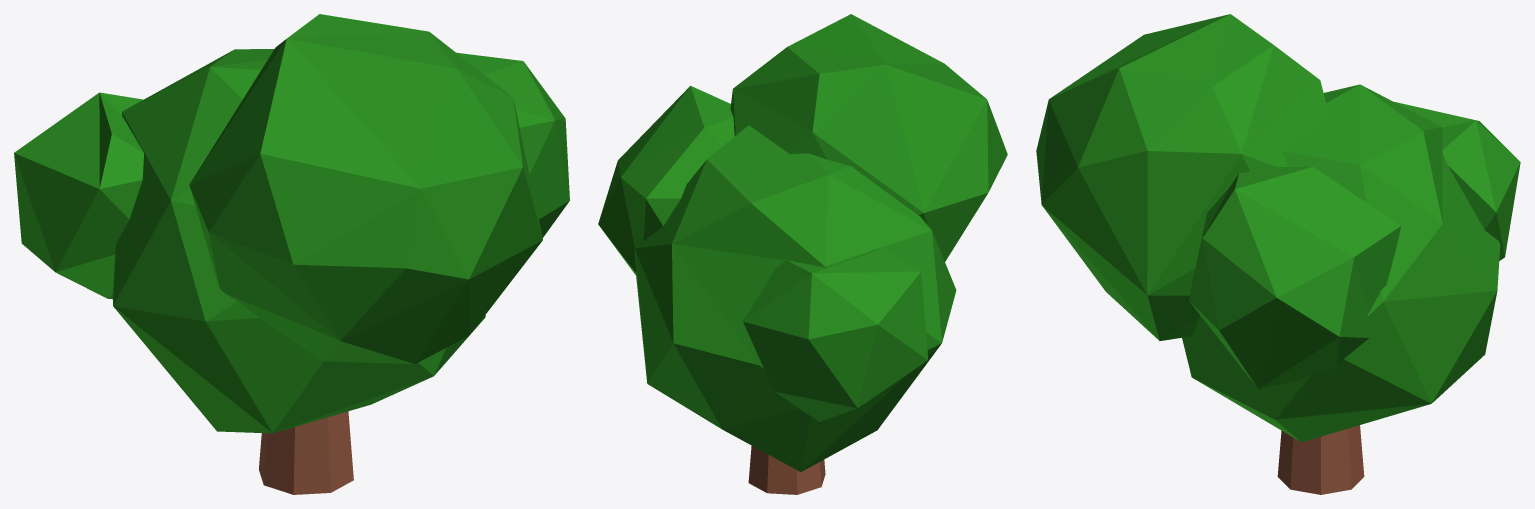
Rendered from Bush_5_summer.fbx.
The picture shows the model from 3 angles, left to right: view 1: azimuth 30°, elevation 25°; view 2: azimuth 150°, elevation 25°; view 3: azimuth 270°, elevation 25°; orthographic projection. The views are drawn at different scales.
Visible parts, largest first — view 1: Bush_5_summer; view 2: Bush_5_summer; view 3: Bush_5_summer.
Boxes of the visible parts, left/top/right/bottom form: Bush_5_summer: left=14, top=14, right=569, bottom=494; Bush_5_summer: left=598, top=14, right=1007, bottom=494; Bush_5_summer: left=1036, top=14, right=1520, bottom=494.
Bounding box in the file's own units: 31.34 × 32.92 × 33.43.
